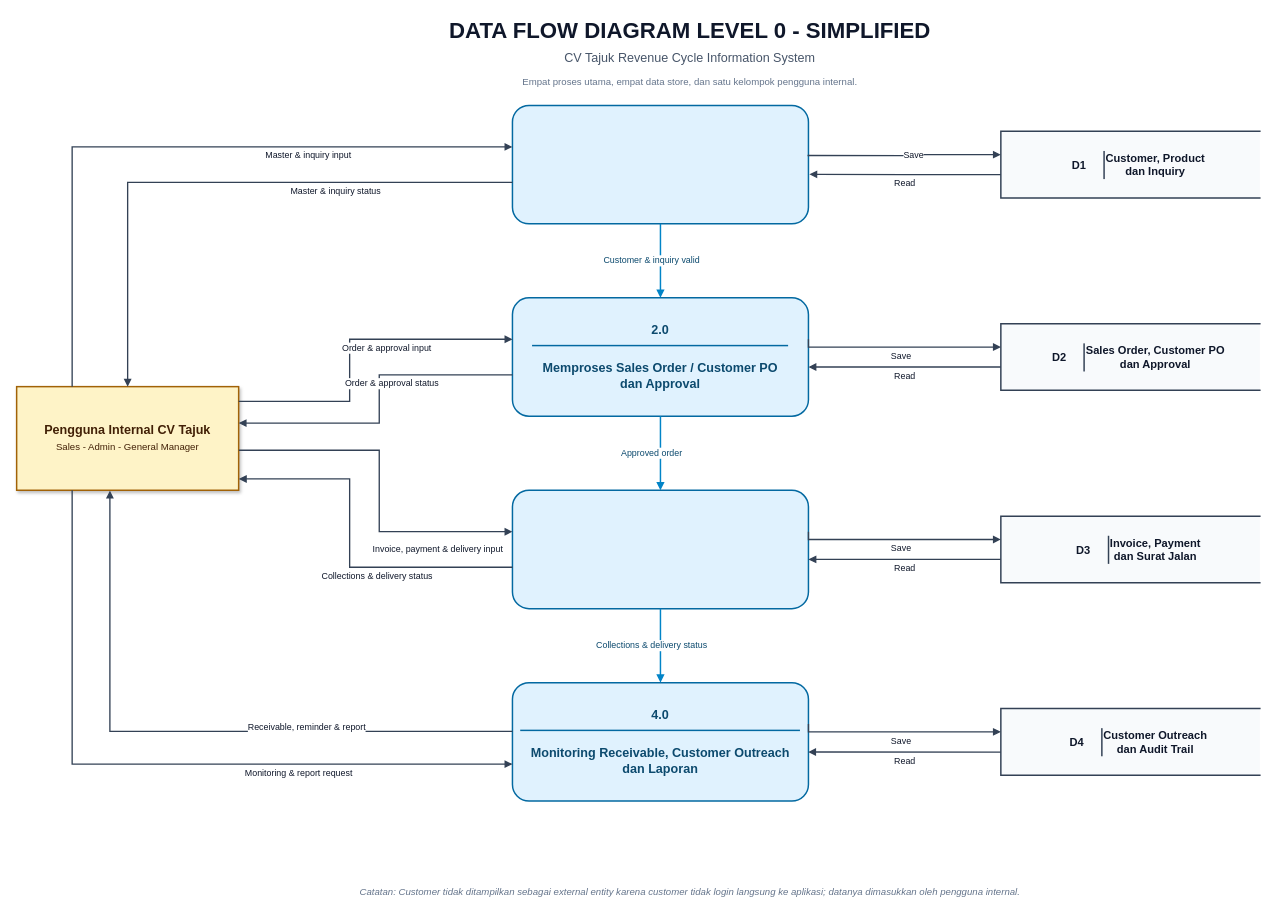
This 1273x921 diagram has some shape labels left out. Here are the shapes that lost their labels. From the top down, the centre of each, then its label:
point (660, 164): 1.0 Mengelola Master Data dan Customer Inquiry
point (660, 549): 3.0 Memproses Invoice, Payment dan Surat Jalan
